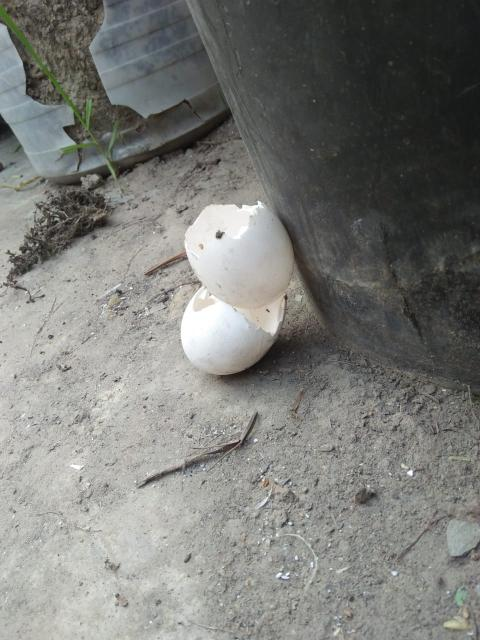Roto: (185, 200, 295, 306), (179, 290, 288, 378)
